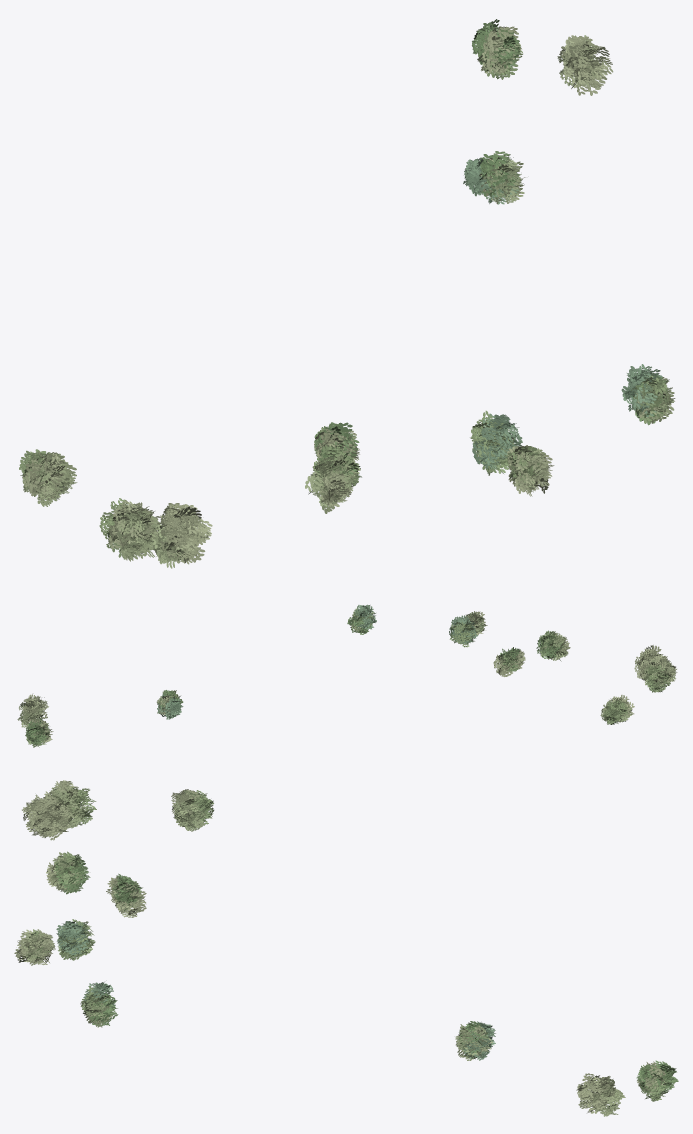
The model's file is campus-tree-4_-2-middle.glb.
The picture shows the model from 3 angles, top to bottom: view 1: azimuth 30°, elevation 25°; view 2: azimuth 150°, elevation 25°; view 3: azimuth 270°, elevation 25°; orthographic projection. The views are drawn at different scales.
Parts seen in each view (by area): view 1: Campus leaf canopy; view 2: Campus leaf canopy; view 3: Campus leaf canopy.
Boxes of the visible parts, box(x1,y1,x2,y2) form: Campus leaf canopy: box(19, 19, 675, 568); Campus leaf canopy: box(17, 604, 677, 747); Campus leaf canopy: box(14, 780, 678, 1116).
Bounding box in the file's own units: 82.65 × 6.74 × 75.
Materials: 1 (1 with a texture image).
